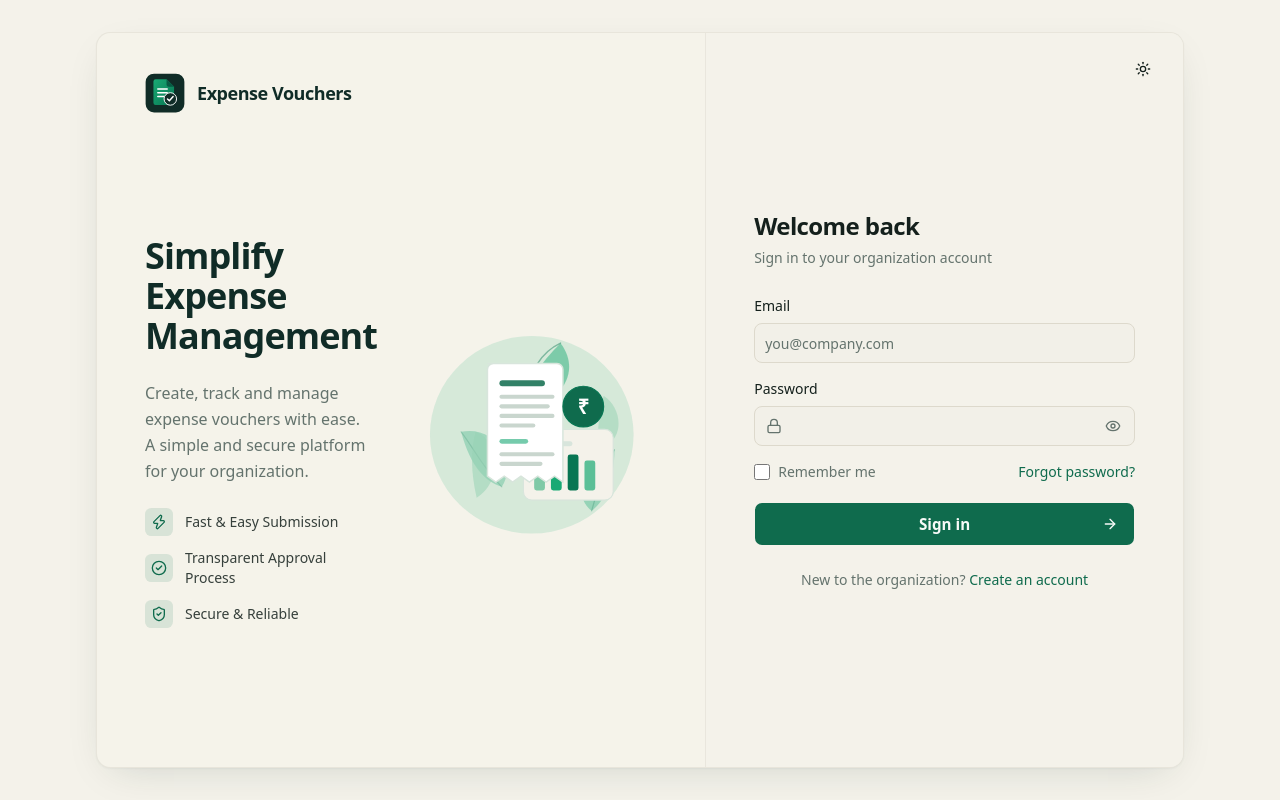
login page › shows the generic server message for invalid credentials
Check: the button "Sign in" is shown, box [754,502,1135,546]
In the field labelled "Email": (945, 343) [754,323,1135,363], type "ada@abc.test"
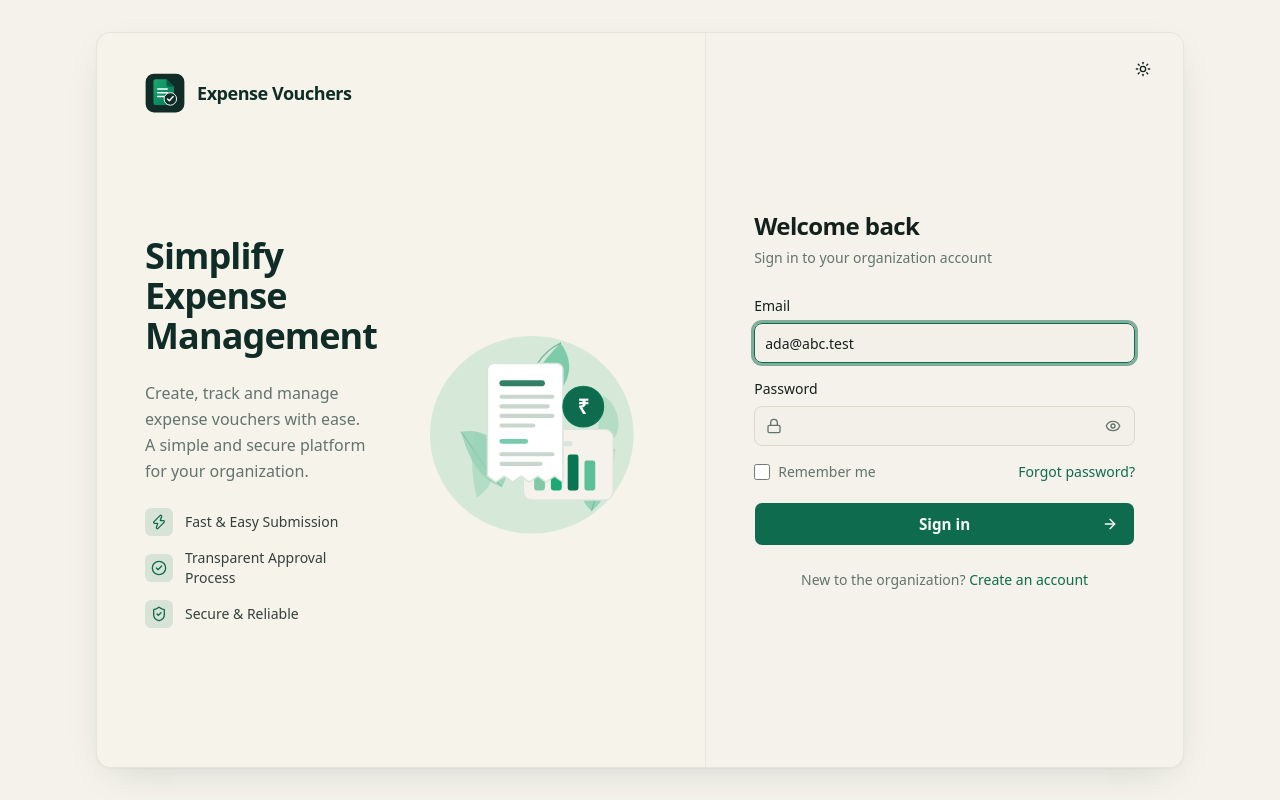
In the password field labelled "Password": (945, 426) [754,406,1135,446], type "wrong-password"
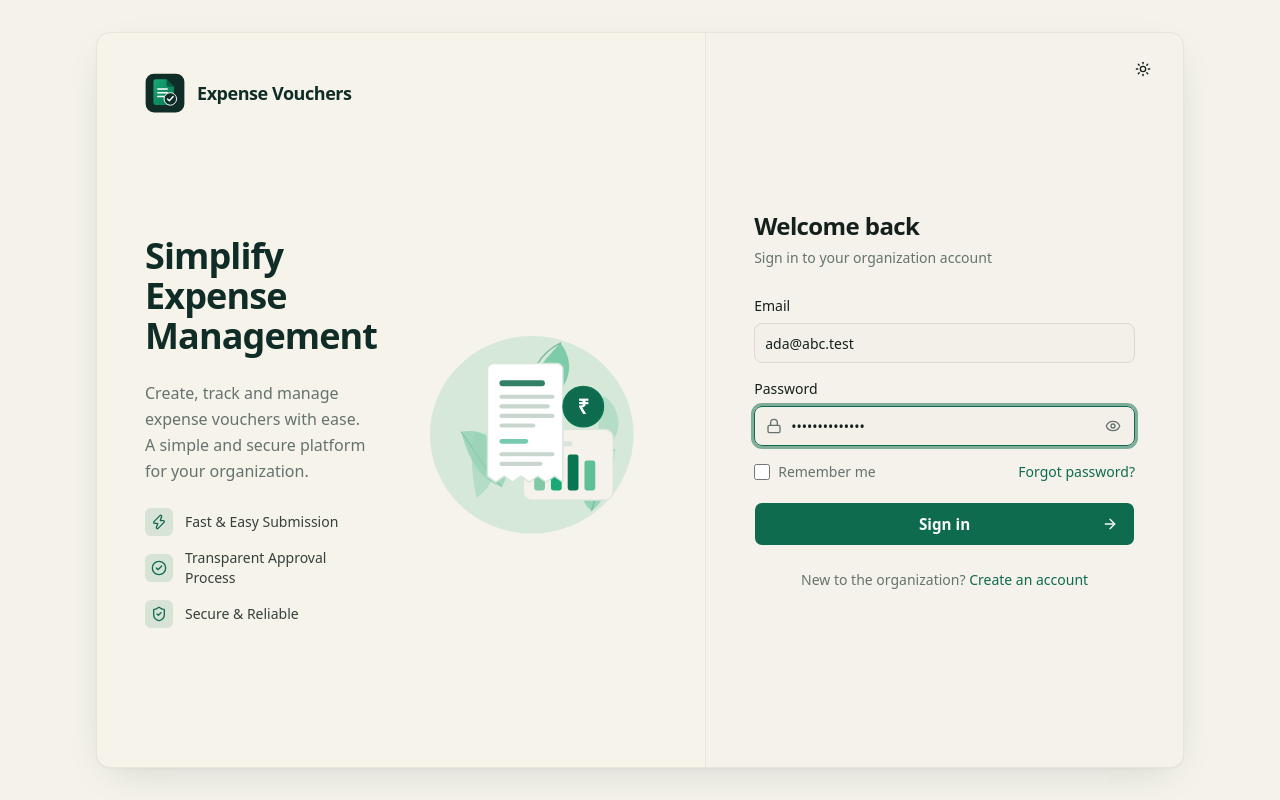
Click the button "Sign in": (945, 524) [754,502,1135,546]
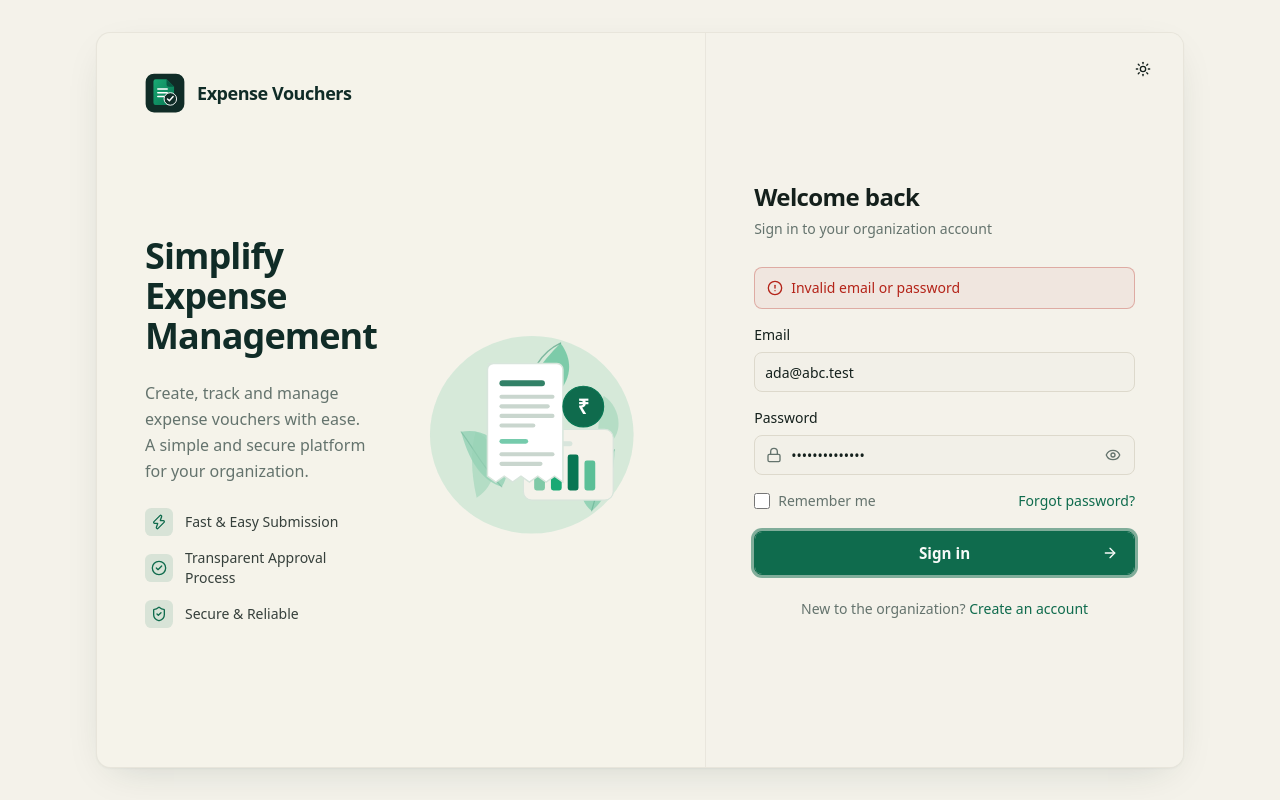
Check: the message reads "Invalid email or password", box [791,278,960,297]
